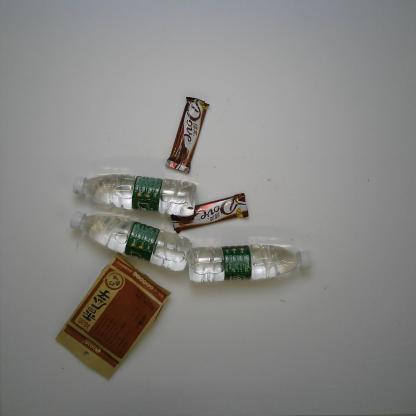Chocolate: (163, 96, 211, 178), (169, 192, 250, 234)
Dried Food: (51, 250, 174, 382)
Drink: (68, 210, 192, 274), (71, 171, 200, 218), (188, 244, 315, 286)
